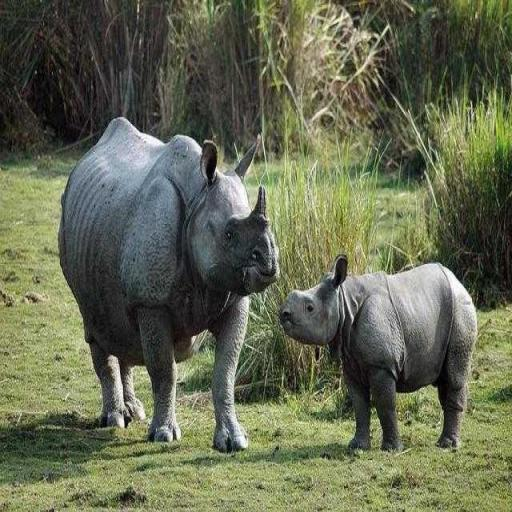Rhino: (57, 114, 280, 453), (278, 252, 478, 453)
